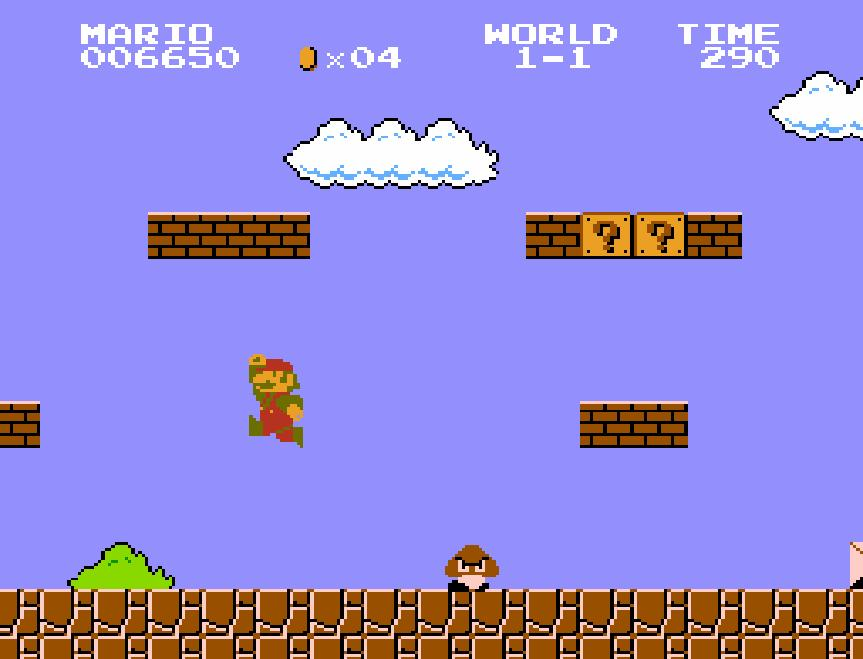big_mario: (247, 352, 305, 450)
